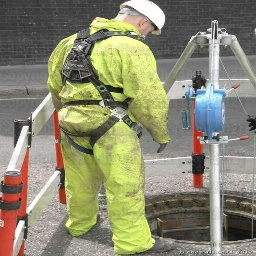helmet: (120, 2, 168, 31)
no-vest: (49, 32, 169, 150)
person: (47, 0, 174, 256)
